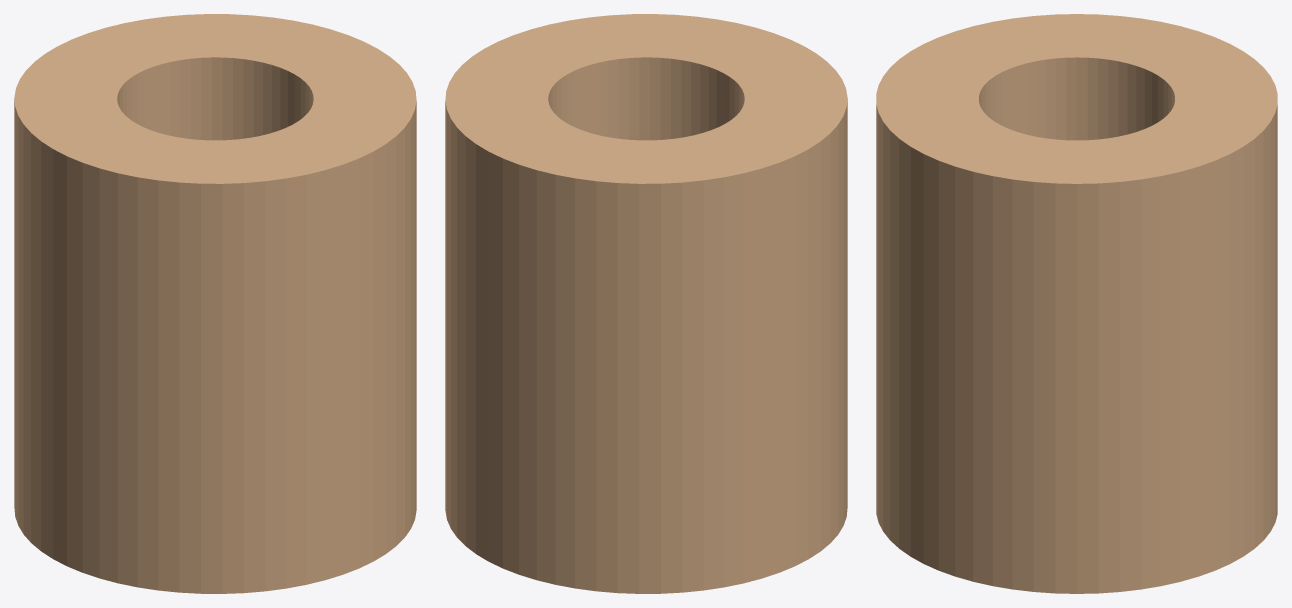
The model's file is injector-coil.glb.
3 views of the same model, side by side, from view 1: azimuth 30°, elevation 25°; view 2: azimuth 150°, elevation 25°; view 3: azimuth 270°, elevation 25° (orthographic).
Parts seen in each view (by area): view 1: world; view 2: world; view 3: world.
Boxes of the visible parts, box(x1,y1,x2,y2) form: world: box(14, 14, 416, 593); world: box(445, 14, 847, 593); world: box(876, 14, 1277, 593).
Size of the model in its own units: 0.0176 by 0.0198 by 0.0176.
